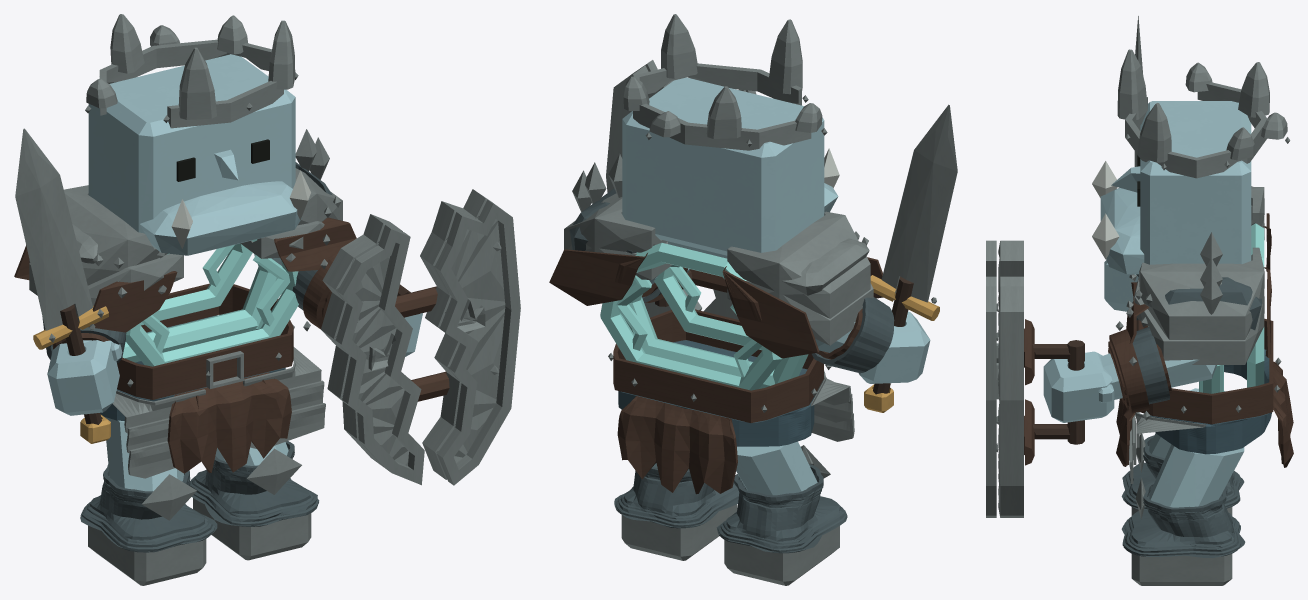
The model's file is host_36-wraith.glb.
The picture shows the model from 3 angles, left to right: view 1: azimuth 30°, elevation 25°; view 2: azimuth 150°, elevation 25°; view 3: azimuth 270°, elevation 25°; orthographic projection. The views are drawn at different scales.
Visible parts, largest first — view 1: One continuous source skull, Source broad chipped neutral steel fractured shield perimete (×2), Actual source asymmetrically chipped open crown, LEFT actual broken shield separated fragment 0, LEFT actual broken shield separated fragment 1, Source long torn brown loincloth -0.214, RIGHT source volumetric bevelled battered sword, Source broad studded continuous fallen waist, RIGHT source planted boot full iron shin wrap, LEFT source planted boot full iron shin wrap, RIGHT real compact source grasp source compact planar grasp, Source substantial battered layered shoulder 10 (+27 smaller); view 2: One continuous source skull, Actual source asymmetrically chipped open crown, Source broad studded continuous fallen waist, Source long torn brown loincloth 0.225, RIGHT source volumetric bevelled battered sword, Source substantial battered layered shoulder 10, RIGHT source planted boot full iron shin wrap, Source actual open aqua octagonal thorax ribs 0.147, LEFT source planted boot full iron shin wrap, Source torn shoulder under-mantle BACK1, Source torn shoulder under-mantle BACK-1, RIGHT source short joined leg (+25 smaller); view 3: One continuous source skull, Actual source asymmetrically chipped open crown, Source substantial battered layered shoulder -10, LEFT actual broken shield separated fragment 0, LEFT source planted boot full iron shin wrap, LEFT source short joined leg, LEFT real compact source grasp source compact planar grasp, Source broad studded continuous fallen waist, Source fitted ragged hem, Source broad chipped neutral steel fractured shield perimete (×2), LEFT source planted boot, Source substantial battered layered shoulder -11 (+23 smaller).
Part boxes in pixels (x1,y1,x2,y2): One continuous source skull: [88, 54, 301, 255]; Source broad chipped neutral steel fractured shield perimete (×2): [335, 200, 520, 485]; Actual source asymmetrically chipped open crown: [86, 14, 295, 128]; LEFT actual broken shield separated fragment 0: [420, 189, 505, 479]; LEFT actual broken shield separated fragment 1: [321, 214, 408, 467]; Source long torn brown loincloth -0.214: [167, 372, 291, 473]; RIGHT source volumetric bevelled battered sword: [15, 128, 92, 330]; Source broad studded continuous fallen waist: [117, 283, 293, 399]; RIGHT source planted boot full iron shin wrap: [80, 464, 217, 552]; LEFT source planted boot full iron shin wrap: [190, 441, 319, 526]; RIGHT real compact source grasp source compact planar grasp: [47, 340, 122, 415]; Source substantial battered layered shoulder 10: [29, 185, 167, 285]; One continuous source skull: [622, 77, 838, 255]; Actual source asymmetrically chipped open crown: [623, 14, 822, 150]; Source broad studded continuous fallen waist: [613, 309, 823, 422]; Source long torn brown loincloth 0.225: [617, 396, 737, 494]; RIGHT source volumetric bevelled battered sword: [881, 104, 957, 302]; Source substantial battered layered shoulder 10: [727, 211, 870, 318]; RIGHT source planted boot full iron shin wrap: [716, 464, 847, 553]; Source actual open aqua octagonal thorax ribs 0.147: [600, 243, 782, 390]; LEFT source planted boot full iron shin wrap: [614, 467, 739, 528]; Source torn shoulder under-mantle BACK1: [722, 266, 819, 358]; Source torn shoulder under-mantle BACK-1: [549, 249, 647, 305]; RIGHT source short joined leg: [736, 441, 817, 495]; One continuous source skull: [1100, 101, 1251, 274]; Actual source asymmetrically chipped open crown: [1117, 49, 1287, 178]; Source substantial battered layered shoulder -10: [1138, 247, 1264, 339]; LEFT actual broken shield separated fragment 0: [998, 276, 1023, 517]; LEFT source planted boot full iron shin wrap: [1121, 482, 1245, 557]; LEFT source short joined leg: [1149, 444, 1244, 507]; LEFT real compact source grasp source compact planar grasp: [1043, 351, 1114, 422]; Source broad studded continuous fallen waist: [1139, 318, 1273, 424]; Source fitted ragged hem: [1150, 349, 1271, 454]; Source broad chipped neutral steel fractured shield perimete (×2): [986, 240, 996, 517]; LEFT source planted boot: [1131, 554, 1232, 585]; Source substantial battered layered shoulder -11: [1133, 277, 1264, 364].
Bounding box in the file's own units: 1.48 × 1.78 × 1.02.
Materials: 10 (8 with a texture image).
